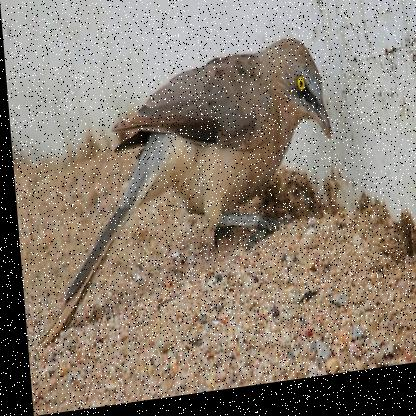Burung: (14, 42, 339, 345)
